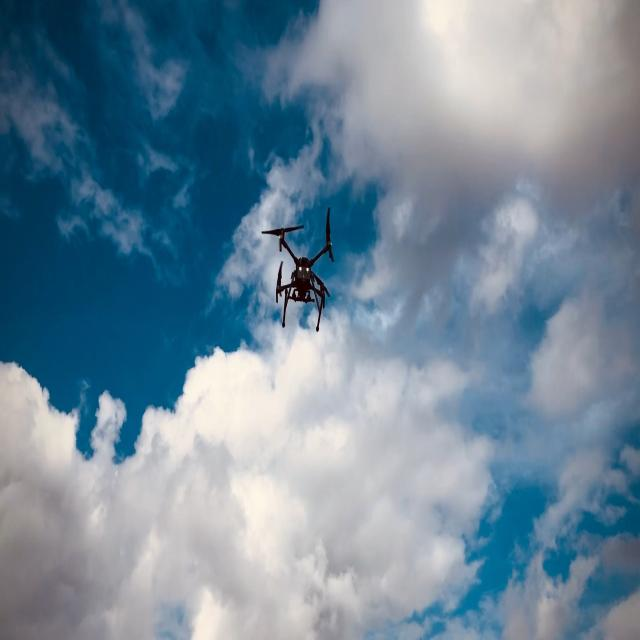drone: (261, 205, 334, 332)
